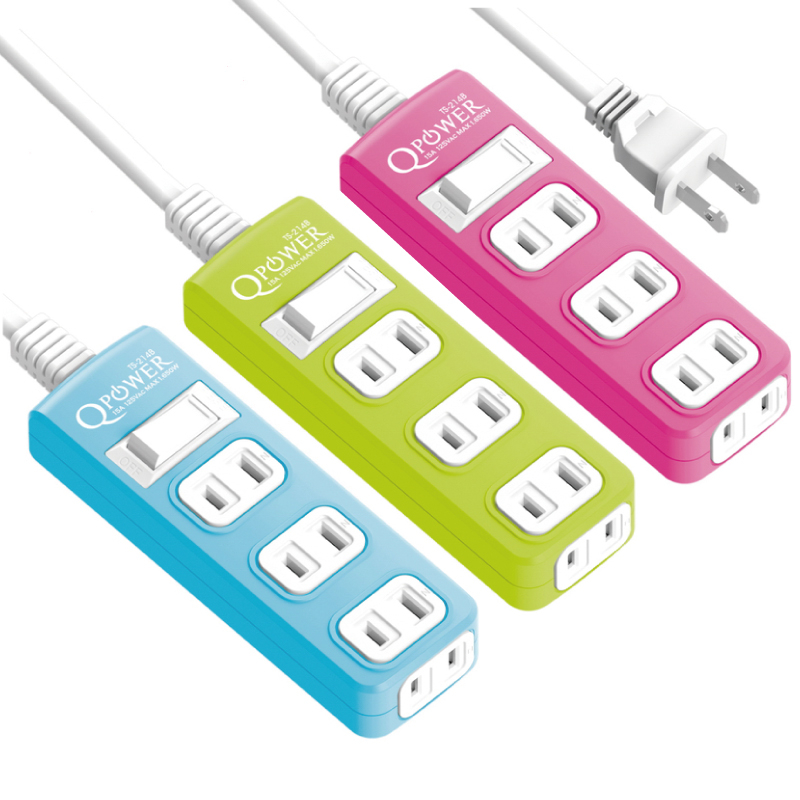socket: (162, 184, 640, 616), (317, 56, 794, 486), (12, 316, 482, 741)
